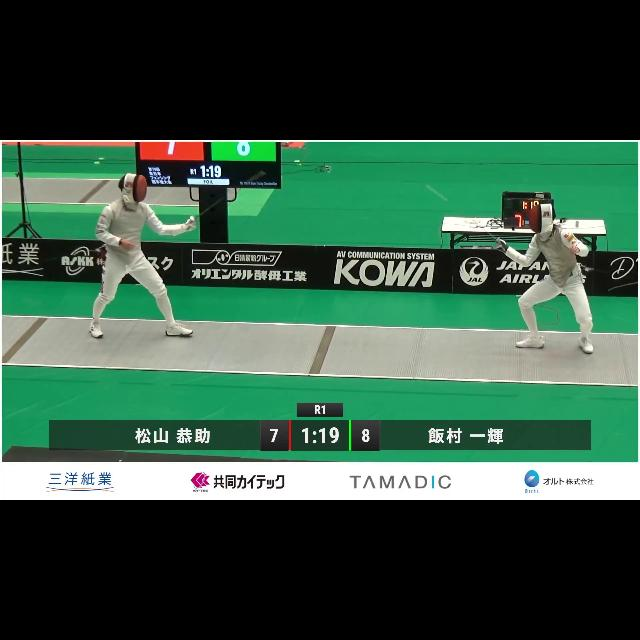blade: (422, 180, 506, 252), (184, 170, 268, 226)
